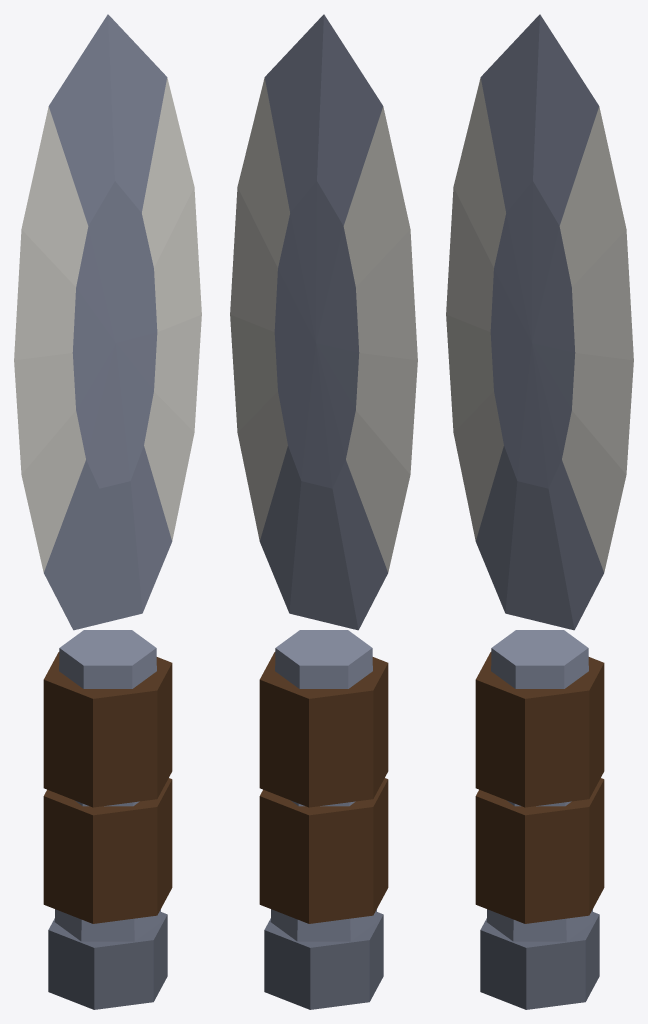
The model's file is wpn_knife_iron_01.fbx.
The picture shows the model from 3 angles, left to right: view 1: azimuth 30°, elevation 25°; view 2: azimuth 150°, elevation 25°; view 3: azimuth 330°, elevation 25°; orthographic projection.
Parts seen in each view (by area): view 1: wpn_knife_iron_01; view 2: wpn_knife_iron_01; view 3: wpn_knife_iron_01.
Boxes of the visible parts, x1,y1,x2,y2 form: wpn_knife_iron_01: [14, 14, 201, 1009]; wpn_knife_iron_01: [230, 14, 417, 1009]; wpn_knife_iron_01: [446, 14, 633, 1009].
Size of the model in its own units: 0.076 by 0.045 by 0.375.
1 material, 1 textured.
